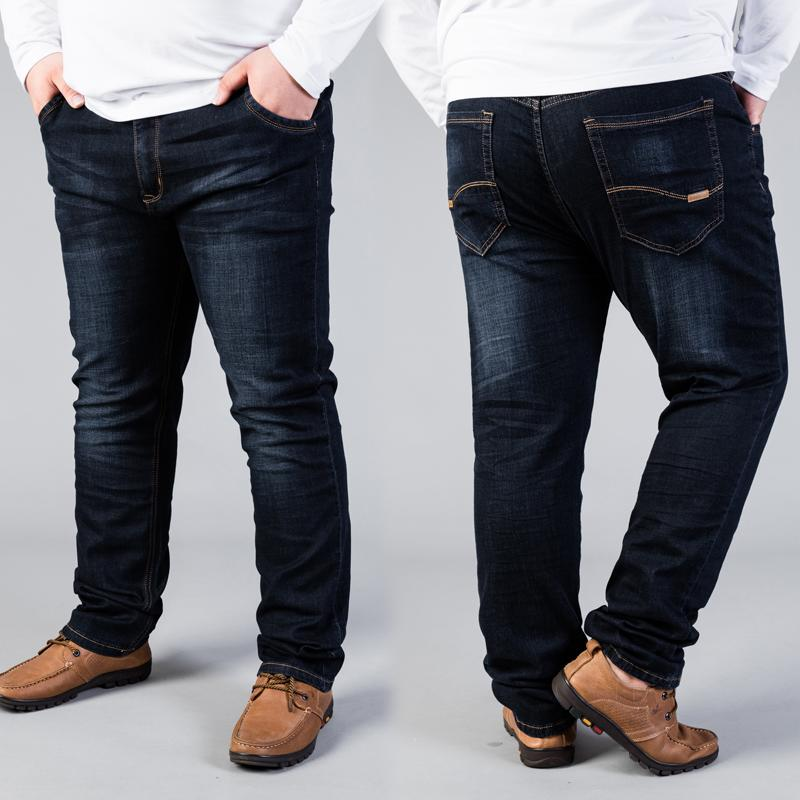jeans: (438, 85, 786, 688), (29, 91, 363, 685)
